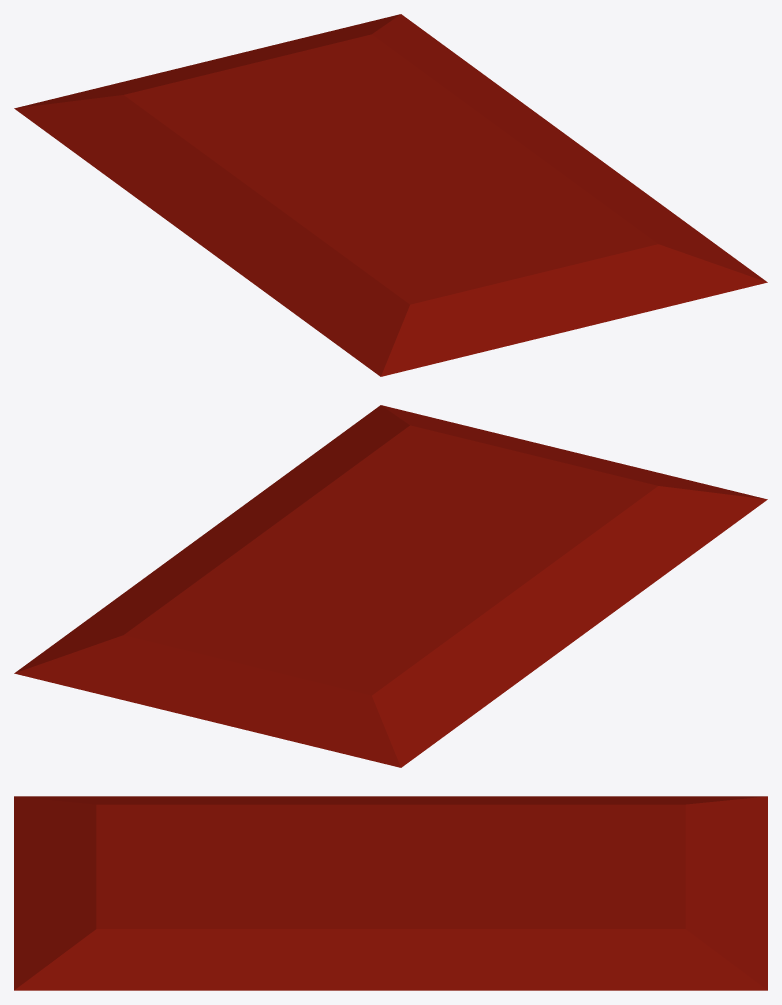
Rendered from switch_rot4.gltf.
The picture shows the model from 3 angles, top to bottom: view 1: azimuth 30°, elevation 25°; view 2: azimuth 150°, elevation 25°; view 3: azimuth 270°, elevation 25°; orthographic projection. The views are drawn at different scales.
Parts seen in each view (by area): view 1: switch.rot4; view 2: switch.rot4; view 3: switch.rot4.
Part boxes in pixels (x1=…): switch.rot4: x1=14, y1=14, x2=767, y2=376; switch.rot4: x1=14, y1=405, x2=767, y2=767; switch.rot4: x1=14, y1=796, x2=767, y2=990.
Size of the model in its own units: 1.56 by 0.1 by 2.56.
